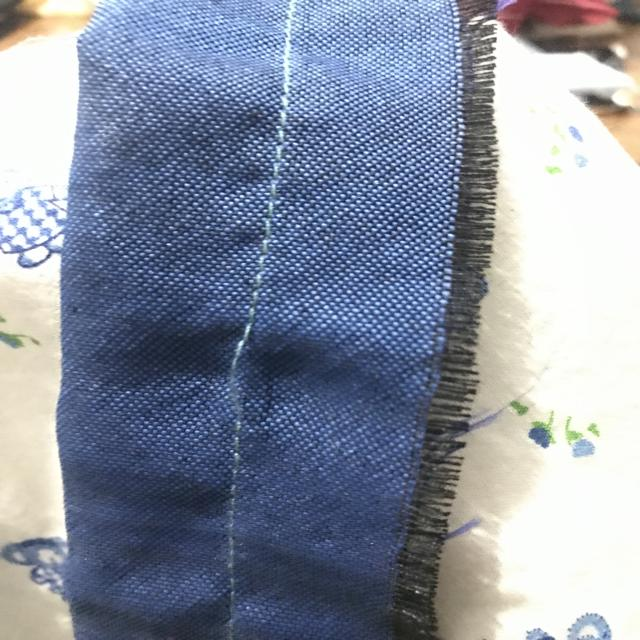good: (246, 145, 298, 264)
skip: (210, 295, 279, 427)
